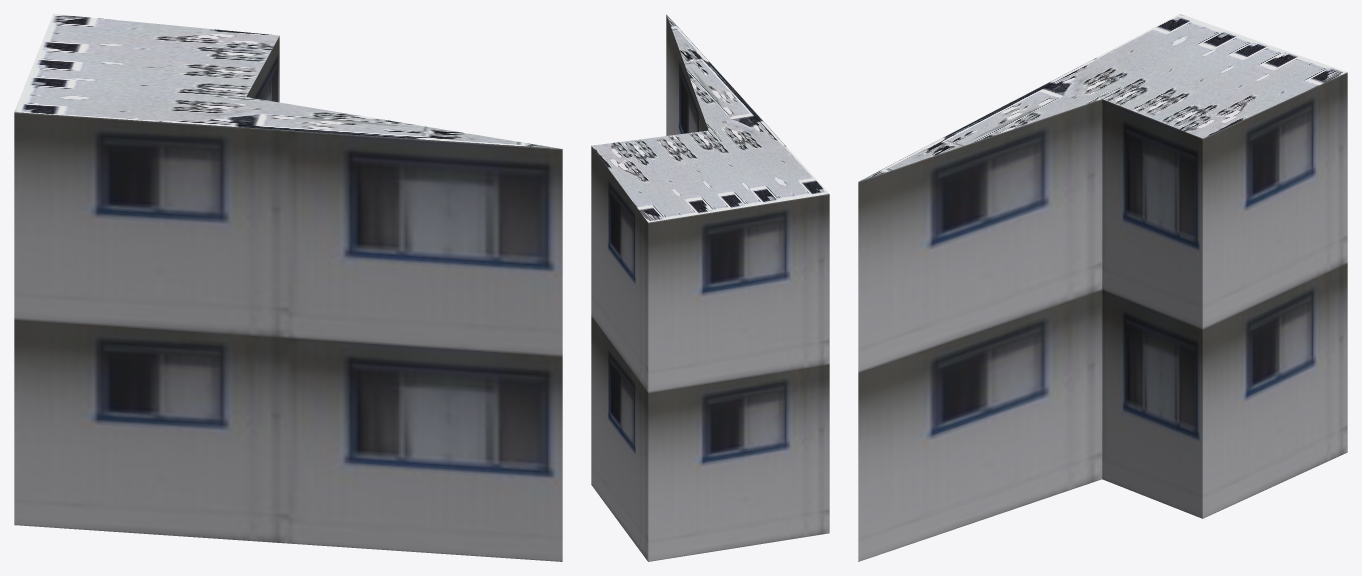
File: ResTex__2135.fbx
The picture shows the model from 3 angles, left to right: view 1: azimuth 30°, elevation 25°; view 2: azimuth 150°, elevation 25°; view 3: azimuth 270°, elevation 25°; orthographic projection. The views are drawn at different scales.
Visible parts, largest first — view 1: CityEngineMaterial_9_m, CityEngineMaterial_4_m; view 2: CityEngineMaterial_9_m, CityEngineMaterial_4_m; view 3: CityEngineMaterial_9_m, CityEngineMaterial_4_m.
Boxes of the visible parts, x1,y1,x2,y2 form: CityEngineMaterial_9_m: (14,36,562,561); CityEngineMaterial_4_m: (14,14,560,148); CityEngineMaterial_9_m: (591,14,829,561); CityEngineMaterial_4_m: (592,15,828,222); CityEngineMaterial_9_m: (858,72,1347,561); CityEngineMaterial_4_m: (859,14,1347,181).
Bounding box in the file's own units: 5.68 × 6 × 7.
Materials: 2 (2 with a texture image).
